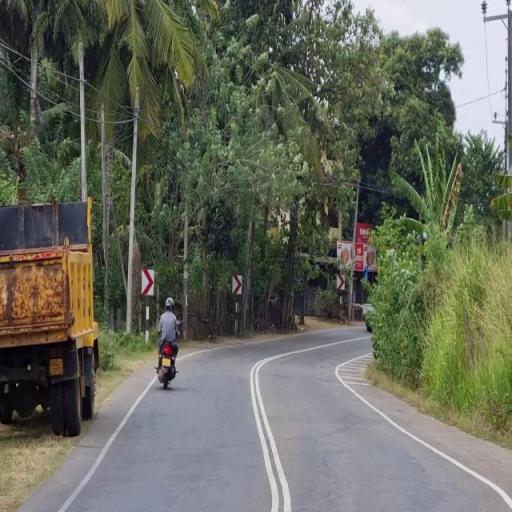double_white_line: (247, 354, 291, 511), (0, 38, 34, 91)
